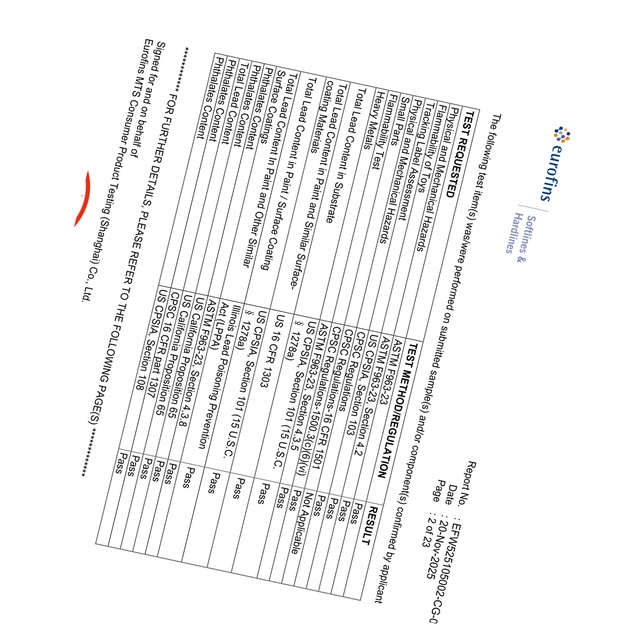eurofins: (538, 122, 574, 207)
